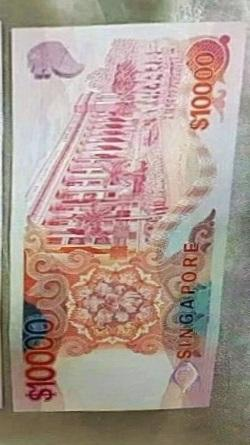10000SingaporeDollar: (16, 29, 229, 406)
